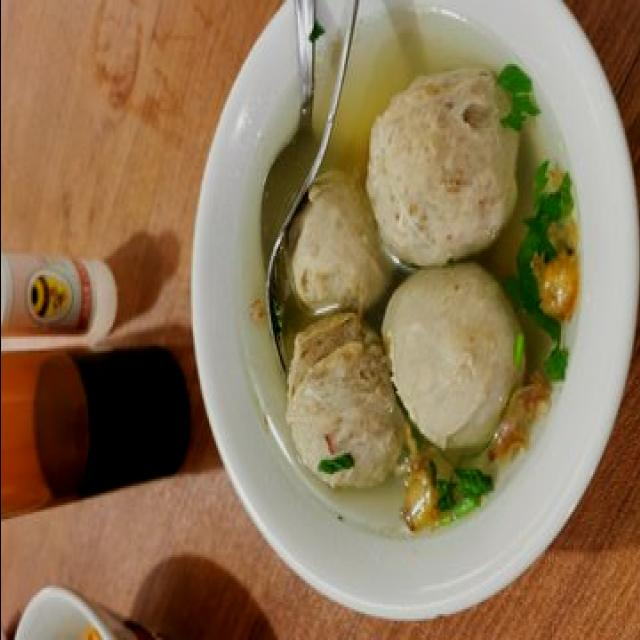bakso: (276, 62, 576, 533)
